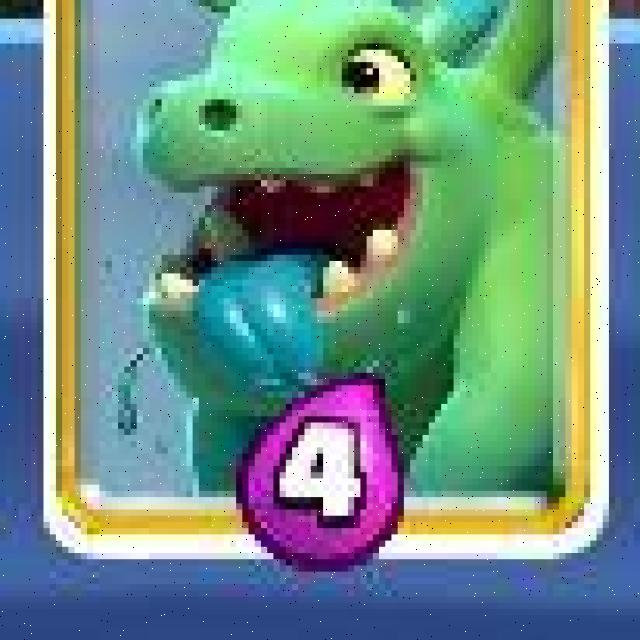Baby_Dragon: (39, 0, 615, 564)
